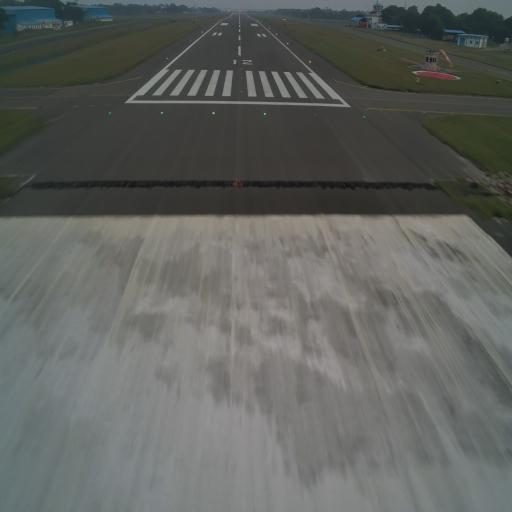off: (313, 110, 317, 118)
on: (160, 110, 164, 118), (362, 113, 366, 121), (107, 111, 113, 116), (212, 110, 216, 117), (264, 110, 268, 116), (308, 59, 312, 64), (240, 65, 243, 70), (240, 77, 243, 80), (241, 90, 243, 94), (166, 56, 168, 60)
